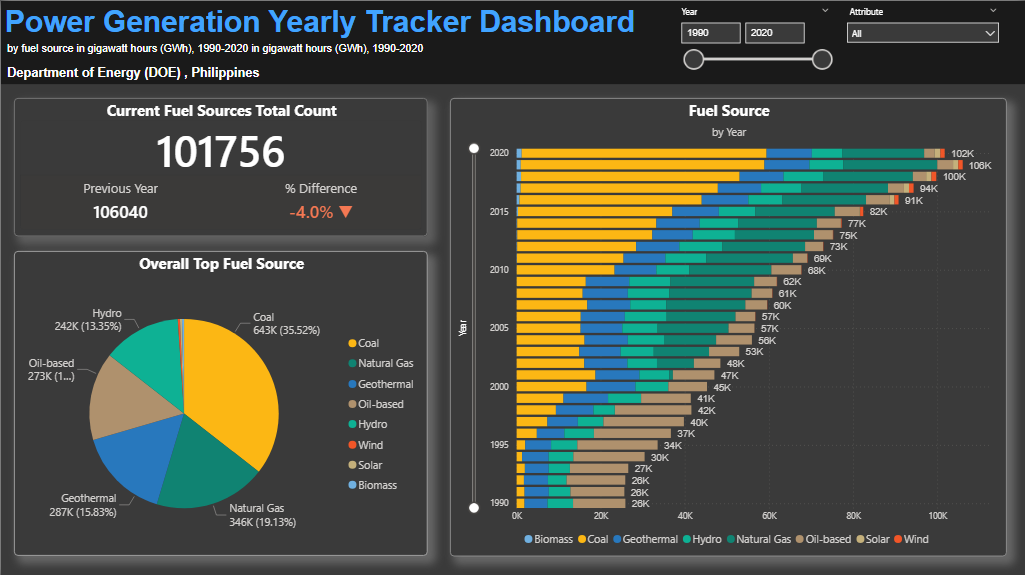

What the dashboard file says about the page in this screenshot:
{"tool":"powerbi","page":{"name":"Fuel Source Tracker","canvas":[1280,720],"ordinal":0},"visuals":[{"type":"shape","box":[0,0,1280,104.3],"z":0},{"type":"textbox","box":[0,0,861.2,56.2],"z":1000},{"type":"textbox","box":[3.3,45.3,786.3,40.9],"z":2000},{"type":"slicer","fields":{"Values":["Department of Energy Yearly Dat.Years"]},"box":[837.1,0,210,104.3],"z":3000},{"type":"slicer","fields":{"Values":["Department of Energy Yearly Dat.Attribute"]},"box":[1047.1,0,210,104.3],"z":4000},{"type":"barChart","title":"Fuel Source","fields":{"Category":["Department of Energy Yearly Dat.Years"],"Series":["Department of Energy Yearly Dat.Attribute"],"Y":["Sum(Department of Energy Yearly Dat.Value)"]},"box":[561.4,121.4,695.7,572.9],"z":5000},{"type":"pieChart","title":"Overall Top Fuel Source","fields":{"Category":["Department of Energy Yearly Dat.Attribute"],"Y":["Sum(Department of Energy Yearly Dat.Value)"]},"box":[15.7,312.9,517.1,381.4],"z":6000},{"type":"cardVisual","title":"Current Fuel Sources Total Count","fields":{"Data":["Department of Energy Yearly Dat.Total Power Latest Year"]},"box":[15.7,121.4,517.1,172.9],"z":7000}]}

Visuals, with their boxes in screenshot pixels (x1, y1, x2, y2), scaled from the page's 1280x720 canvas onto the 1025x575 screenshot:
shape: box(0, 0, 1024, 83)
textbox: box(0, 0, 690, 45)
textbox: box(3, 36, 632, 69)
slicer - Department of Energy Yearly Dat.Years: box(670, 0, 838, 83)
slicer - Department of Energy Yearly Dat.Attribute: box(838, 0, 1007, 83)
"Fuel Source" barChart: box(450, 97, 1007, 554)
"Overall Top Fuel Source" pieChart: box(13, 250, 427, 554)
"Current Fuel Sources Total Count" cardVisual: box(13, 97, 427, 235)
